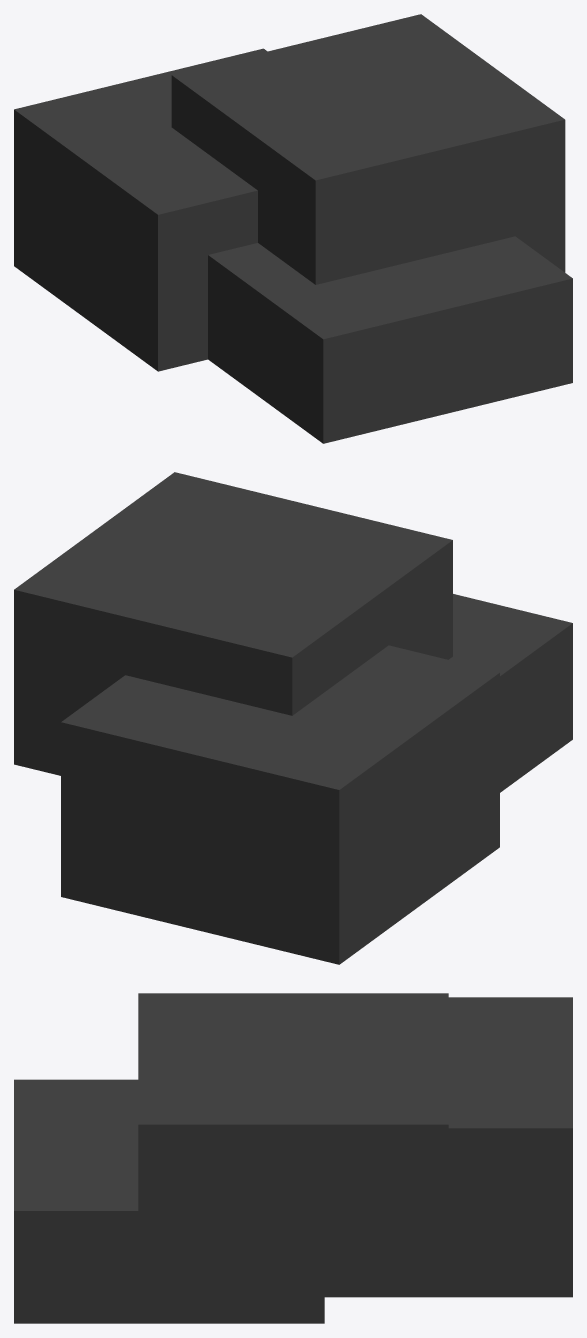
File: StoneBlock.fbx
The picture shows the model from 3 angles, top to bottom: view 1: azimuth 30°, elevation 25°; view 2: azimuth 150°, elevation 25°; view 3: azimuth 270°, elevation 25°; orthographic projection. The views are drawn at different scales.
Parts seen in each view (by area): view 1: cube_1, cube_2, cube; view 2: cube, cube_1, cube_2; view 3: cube_1, cube, cube_2.
Part boxes in pixels (<box>): cube_1: <box>171,14,565,284</box>; cube_2: <box>208,236,572,443</box>; cube: <box>14,48,267,371</box>; cube: <box>61,645,499,964</box>; cube_1: <box>14,472,452,775</box>; cube_2: <box>449,594,572,792</box>; cube_1: <box>138,993,448,1293</box>; cube: <box>324,997,572,1297</box>; cube_2: <box>14,1079,324,1323</box>.
Bounding box in the file's own units: 43.75 × 25 × 56.25.
Materials: 1 (1 with a texture image).
